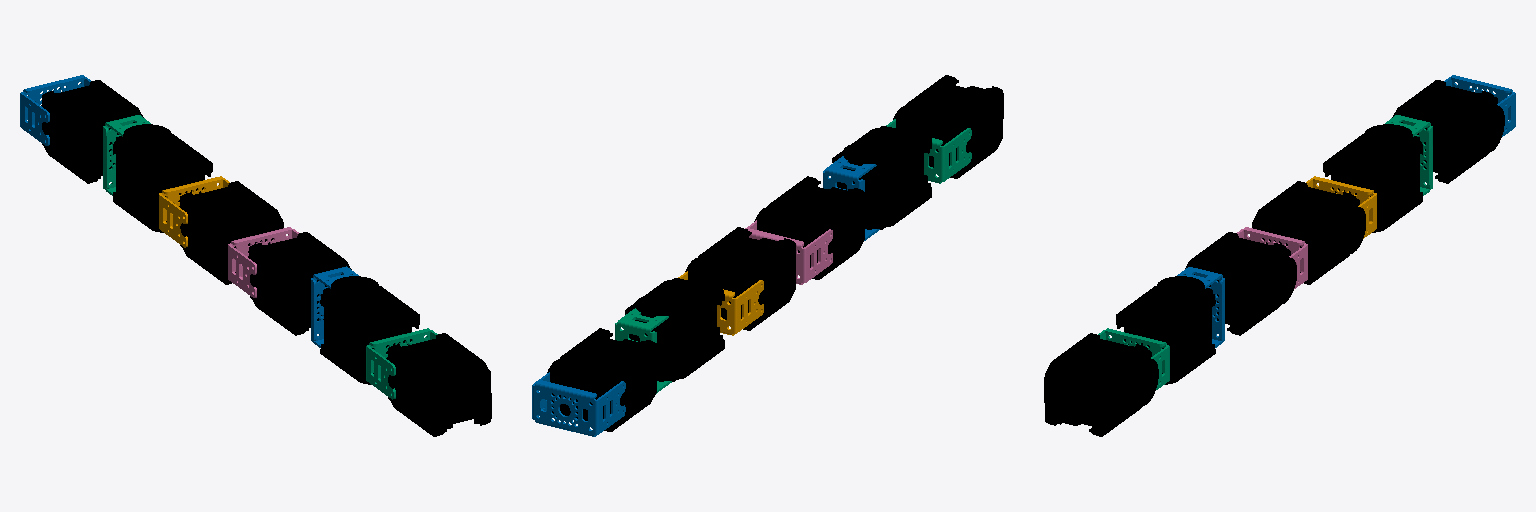
The robot description file, URDF, robot "my_snake_robot":
<?xml version="1.0"?>
<robot name = "my_snake_robot">

	<gazebo>
  		<plugin name="gazebo_ros_control" filename="libgazebo_ros_control.so">
    			<robotNamespace>/my_snake_robot</robotNamespace>
  		</plugin>
	</gazebo>

	<material name = "black">
		<color rgba = "0 0 0 1"/>
	</material>
	<material name = "grey">
		<color rgba = "0.75 0.75 0.75 1"/>
	</material>
  
  	<gazebo reference = "dummy_link">
  		<kp>1000</kp>
  		<kd>10</kd>
  		<mu1>10</mu1>
  		<mu2>10</mu2>
  	</gazebo>

    <link name = "dummy_link">
    </link>

    <joint name = "dummy" type="fixed">
      <parent link = "dummy_link"/>
      <child link = "act1"/>
      <origin xyz="0 0 0" rpy="0 0 0"/>
    </joint>

    <link name="act1">
		<inertial>
			<origin xyz = "0 0 0" rpy = "0 1.57 0"/>
			<mass value = "0.00546"/>
			<inertia ixx ="4.6587e-5" ixy="0" ixz= "0"
			 iyy= "1.6976e-5" iyz="0" izz="4.1637e-5"/>
		</inertial>
        <collision>
            <origin xyz="0 0 0" rpy="0 1.57 0"/>
            <geometry>
        		<mesh filename="package://quadnake_description/meshes/MX-64T.stl" scale="0.01 0.01 0.01"/>
			</geometry>
        </collision>		
		<visual>
			<origin  xyz="0 0 0" rpy="0 1.57 0"/>
			<geometry>
        		<mesh filename="package://quadnake_description/meshes/MX-64T.stl" scale="0.01 0.01 0.01"/>
			</geometry>
			<material name="black"/>
		</visual>
    </link>
  
  	<gazebo reference = "act1">
  		<kp>1000</kp>
  		<kd>10</kd>
  		<mu1>10</mu1>
  		<mu2>10</mu2>
  	</gazebo>

    <link name="link1">
    	<inertial>
			<origin xyz = "0 0 0" rpy = "0 0 0"/>
			<mass value = "0.00546"/>
			<inertia ixx ="2.042e-06" ixy="0" ixz= "0"
			 iyy= "1.206e-06" iyz="0" izz="2.817e-06"/>
		</inertial>
        <collision>
            <origin xyz="0 0 0" rpy="0 0 0"/>
            <geometry>
                <mesh filename="package://quadnake_description/meshes/FR07-H101.stl" scale="0.01 0.01 0.01"/>
			</geometry>
        </collision>		
        <visual>
            <origin rpy="0 0 0" xyz="0 0 0"/>
            <geometry>
                <mesh filename="package://quadnake_description/meshes/FR07-H101.stl" scale="0.01 0.01 0.01"/>
            </geometry>
        </visual>
    </link>

  	<gazebo reference = "link1">
  		<kp>1000</kp>
  		<kd>10</kd>
  		<mu1>10</mu1>
  		<mu2>10</mu2>
  	</gazebo>

  	<joint name="joint1" type="revolute">
    	<axis xyz="1 0 0"/>
    	<limit effort="1000.0" velocity="1000" lower="-1.57" upper="1.57"/>
    	<origin rpy="0 0 0" xyz="0 0 0"/>
    	<parent link="act1"/>
    	<child link="link1"/>
  	</joint>

  <transmission name="tran1">
    <type>transmission_interface/SimpleTransmission</type>
    <joint name="joint1">
      <hardwareInterface>EffortJointInterface</hardwareInterface>
    </joint>
    <actuator name="motor1">
      <hardwareInterface>EffortJointInterface</hardwareInterface>
      <mechanicalReduction>1</mechanicalReduction>
    </actuator>
  </transmission>

    <link name="act2">
		<inertial>
			<origin xyz = "0 0 0" rpy = "0 0 0"/>
			<mass value = "0.00546"/>
			<inertia ixx ="4.6587e-5" ixy="0" ixz= "0"
			 iyy= "1.6976e-5" iyz="0" izz="4.1637e-5"/>
		</inertial>
        <collision>
            <origin xyz="0 0 0" rpy="0 0 0"/>
            <geometry>
        		<mesh filename="package://quadnake_description/meshes/MX-64T.stl" scale="0.01 0.01 0.01"/>
			</geometry>
        </collision>		
		<visual>
			<origin xyz="0 0 0" rpy="0 0 0" />
			<geometry>
        		<mesh filename="package://quadnake_description/meshes/MX-64T.stl" scale="0.01 0.01 0.01"/>
			</geometry>
			<material name="black"/>
		</visual>
    </link>
  
  	<gazebo reference = "act2">
  		<kp>1000</kp>
  		<kd>10</kd>
  		<mu1>10</mu1>
  		<mu2>10</mu2>
  	</gazebo>

    <joint name = "fixed1" type="fixed">
      <parent link = "link1"/>
      <child link = "act2"/>
      <origin xyz="0 0.08 0" rpy="0 0 0"/>
    </joint>

    <link name="link2">
    	<inertial>
			<origin xyz = "0 0 0" rpy = "0 1.57 0"/>
			<mass value = "0.00546"/>
			<inertia ixx ="2.042e-06" ixy="0" ixz= "0"
			 iyy= "1.206e-06" iyz="0" izz="2.817e-06"/>
		</inertial>
        <collision>
            <origin xyz="0 0 0" rpy="0 1.57 0"/>
            <geometry>
                <mesh filename="package://quadnake_description/meshes/FR07-H101.stl" scale="0.01 0.01 0.01"/>
			</geometry>
        </collision>		
        <visual>
            <origin xyz="0 0 0" rpy="0 1.57 0" />
            <geometry>
                <mesh filename="package://quadnake_description/meshes/FR07-H101.stl" scale="0.01 0.01 0.01"/>
            </geometry>
        </visual>
    </link>

  	<gazebo reference = "link2">
  		<kp>1000</kp>
  		<kd>10</kd>
  		<mu1>10</mu1>
  		<mu2>10</mu2>
  	</gazebo>

  	<joint name="joint2" type="revolute">
    	<axis xyz="0 0 1"/>
    	<limit effort="1000.0" velocity="1000" lower="-1.57" upper="1.57"/>
    	<origin rpy="0 0 0" xyz="0 0 0"/>
    	<parent link="act2"/>
    	<child link="link2"/>

  	</joint>

  <transmission name="tran2">
    <type>transmission_interface/SimpleTransmission</type>
    <joint name="joint2">
      <hardwareInterface>EffortJointInterface</hardwareInterface>
    </joint>
    <actuator name="motor2">
      <hardwareInterface>EffortJointInterface</hardwareInterface>
      <mechanicalReduction>1</mechanicalReduction>
    </actuator>
  </transmission>

    <link name="act3">
		<inertial>
			<origin xyz = "0 0 0" rpy = "0 1.57 0"/>
			<mass value = "0.00546"/>
			<inertia ixx ="4.6587e-5" ixy="0" ixz= "0"
			 iyy= "1.6976e-5" iyz="0" izz="4.1637e-5"/>
		</inertial>
        <collision>
            <origin xyz="0 0 0" rpy="0 1.57 0"/>
            <geometry>
        		<mesh filename="package://quadnake_description/meshes/MX-64T.stl" scale="0.01 0.01 0.01"/>
			</geometry>
        </collision>		
		<visual>
			<origin  xyz="0 0 0" rpy="0 1.57 0"/>
			<geometry>
        		<mesh filename="package://quadnake_description/meshes/MX-64T.stl" scale="0.01 0.01 0.01"/>
			</geometry>
			<material name="black"/>
		</visual>
    </link>
  
  	<gazebo reference = "act3">
  		<kp>1000</kp>
  		<kd>10</kd>
  		<mu1>10</mu1>
  		<mu2>10</mu2>
  	</gazebo>

    <link name="link3">
    	<inertial>
			<origin xyz = "0 0 0" rpy = "0 0 0"/>
			<mass value = "0.00546"/>
			<inertia ixx ="2.042e-06" ixy="0" ixz= "0"
			 iyy= "1.206e-06" iyz="0" izz="2.817e-06"/>
		</inertial>
        <collision>
            <origin xyz="0 0 0" rpy="0 0 0"/>
            <geometry>
                <mesh filename="package://quadnake_description/meshes/FR07-H101.stl" scale="0.01 0.01 0.01"/>
			</geometry>
        </collision>		
        <visual>
            <origin xyz="0 0 0" rpy="0 0 0"/>
            <geometry>
                <mesh filename="package://quadnake_description/meshes/FR07-H101.stl" scale="0.01 0.01 0.01"/>
            </geometry>
        </visual>
    </link>

  	<gazebo reference = "link3">
  		<kp>1000</kp>
  		<kd>10</kd>
  		<mu1>10</mu1>
  		<mu2>10</mu2>
  	</gazebo>

  	<joint name="joint3" type="revolute">
    	<axis xyz="1 0 0"/>
    	<limit effort="1000.0" velocity="1000" lower="-1.57" upper="1.57"/>
    	<origin rpy="0 0 0" xyz="0 0 0"/>
    	<parent link="act3"/>
    	<child link="link3"/>

  	</joint>

  <transmission name="tran3">
    <type>transmission_interface/SimpleTransmission</type>
    <joint name="joint3">
      <hardwareInterface>EffortJointInterface</hardwareInterface>
    </joint>
    <actuator name="motor3">
      <hardwareInterface>EffortJointInterface</hardwareInterface>
      <mechanicalReduction>1</mechanicalReduction>
    </actuator>
  </transmission>

    <joint name = "fixed2" type="fixed">
      <parent link = "link2"/>
      <child link = "act3"/>
      <origin xyz="0 0.08 0" rpy="0 0 0"/>
    </joint>

    <link name="act4">
		<inertial>
			<origin xyz = "0 0 0" rpy = "0 1.57 0"/>
			<mass value = "0.00546"/>
			<inertia ixx ="4.6587e-5" ixy="0" ixz= "0"
			 iyy= "1.6976e-5" iyz="0" izz="4.1637e-5"/>
		</inertial>
        <collision>
            <origin xyz="0 0 0" rpy="0 1.57 0"/>
            <geometry>
        		<mesh filename="package://quadnake_description/meshes/MX-64T.stl" scale="0.01 0.01 0.01"/>
			</geometry>
        </collision>		
		<visual>
			<origin  xyz="0 0 0" rpy="0 1.57 0"/>
			<geometry>
        		<mesh filename="package://quadnake_description/meshes/MX-64T.stl" scale="0.01 0.01 0.01"/>
			</geometry>
			<material name="black"/>
		</visual>
    </link>
  
  	<gazebo reference = "act4">
  		<kp>1000</kp>
  		<kd>10</kd>
  		<mu1>10</mu1>
  		<mu2>10</mu2>
  	</gazebo>

    <link name="link4">
    	<inertial>
			<origin xyz = "0 0 0" rpy = "0 0 0"/>
			<mass value = "0.00546"/>
			<inertia ixx ="2.042e-06" ixy="0" ixz= "0"
			 iyy= "1.206e-06" iyz="0" izz="2.817e-06"/>
		</inertial>
        <collision>
            <origin xyz="0 0 0" rpy="0 0 0"/>
            <geometry>
                <mesh filename="package://quadnake_description/meshes/FR07-H101.stl" scale="0.01 0.01 0.01"/>
			</geometry>
        </collision>		
        <visual>
            <origin rpy="0 0 0" xyz="0 0 0"/>
            <geometry>
                <mesh filename="package://quadnake_description/meshes/FR07-H101.stl" scale="0.01 0.01 0.01"/>
            </geometry>
        </visual>
    </link>

  	<gazebo reference = "link4">
  		<kp>1000</kp>
  		<kd>10</kd>
  		<mu1>10</mu1>
  		<mu2>10</mu2>
  	</gazebo>   

  	<joint name="joint4" type="revolute">
    	<axis xyz="1 0 0"/>
    	<limit effort="1000.0" velocity="1000" lower="-1.57" upper="1.57"/>
    	<origin rpy="0 0 0" xyz="0 0 0"/>
    	<parent link="act4"/>
    	<child link="link4"/>

  	</joint>

  <transmission name="tran4">
    <type>transmission_interface/SimpleTransmission</type>
    <joint name="joint4">
      <hardwareInterface>EffortJointInterface</hardwareInterface>
    </joint>
    <actuator name="motor4">
      <hardwareInterface>EffortJointInterface</hardwareInterface>
      <mechanicalReduction>1</mechanicalReduction>
    </actuator>
  </transmission>

    <joint name = "fixed3" type="fixed">
      <parent link = "link3"/>
      <child link = "act4"/>
      <origin xyz="0 0.08 0" rpy="0 0 0"/>
    </joint>

    <link name="act5">
		<inertial>
			<origin xyz = "0 0 0" rpy = "0 0 0"/>
			<mass value = "0.00546"/>
			<inertia ixx ="4.6587e-5" ixy="0" ixz= "0"
			 iyy= "1.6976e-5" iyz="0" izz="4.1637e-5"/>
		</inertial>
        <collision>
            <origin xyz="0 0 0" rpy="0 0 0"/>
            <geometry>
        		<mesh filename="package://quadnake_description/meshes/MX-64T.stl" scale="0.01 0.01 0.01"/>
			</geometry>
        </collision>		
		<visual>
			<origin xyz="0 0 0" rpy="0 0 0" />
			<geometry>
        		<mesh filename="package://quadnake_description/meshes/MX-64T.stl" scale="0.01 0.01 0.01"/>
			</geometry>
			<material name="black"/>
		</visual>
    </link>
  
  	<gazebo reference = "act5">
  		<kp>1000</kp>
  		<kd>10</kd>
  		<mu1>10</mu1>
  		<mu2>10</mu2>
  	</gazebo>

    <joint name = "fixed4" type="fixed">
      <parent link = "link4"/>
      <child link = "act5"/>
      <origin xyz="0 0.08 0" rpy="0 0 0"/>
    </joint>

    <link name="link5">
    	<inertial>
			<origin xyz = "0 0 0" rpy = "0 1.57 0"/>
			<mass value = "0.00546"/>
			<inertia ixx ="2.042e-06" ixy="0" ixz= "0"
			 iyy= "1.206e-06" iyz="0" izz="2.817e-06"/>
		</inertial>
        <collision>
            <origin xyz="0 0 0" rpy="0 1.57 0"/>
            <geometry>
                <mesh filename="package://quadnake_description/meshes/FR07-H101.stl" scale="0.01 0.01 0.01"/>
			</geometry>
        </collision>		
        <visual>
            <origin xyz="0 0 0" rpy="0 1.57 0" />
            <geometry>
                <mesh filename="package://quadnake_description/meshes/FR07-H101.stl" scale="0.01 0.01 0.01"/>
            </geometry>
        </visual>
    </link>

  	<gazebo reference = "act5">
  		<kp>1000</kp>
  		<kd>10</kd>
  		<mu1>10</mu1>
  		<mu2>10</mu2>
  	</gazebo>

  	<joint name="joint5" type="revolute">
    	<axis xyz="0 0 1"/>
    	<limit effort="1000.0" velocity="1000" lower="-1.57" upper="1.57"/>
    	<origin rpy="0 0 0" xyz="0 0 0"/>
    	<parent link="act5"/>
    	<child link="link5"/>
  	</joint>

  	<gazebo reference = "joint5">
  		<kp>1000</kp>
  		<kd>10</kd>
  		<mu1>10</mu1>
  		<mu2>10</mu2>
  	</gazebo>

  <transmission name="tran5">
    <type>transmission_interface/SimpleTransmission</type>
    <joint name="joint5">
      <hardwareInterface>EffortJointInterface</hardwareInterface>
    </joint>
    <actuator name="motor5">
      <hardwareInterface>EffortJointInterface</hardwareInterface>
      <mechanicalReduction>1</mechanicalReduction>
    </actuator>
  </transmission>

    <link name="act6">
		<inertial>
			<origin xyz = "0 0 0" rpy = "0 1.57 0"/>
			<mass value = "0.00546"/>
			<inertia ixx ="4.6587e-5" ixy="0" ixz= "0"
			 iyy= "1.6976e-5" iyz="0" izz="4.1637e-5"/>
		</inertial>
        <collision>
            <origin xyz="0 0 0" rpy="0 1.57 0"/>
            <geometry>
        		<mesh filename="package://quadnake_description/meshes/MX-64T.stl" scale="0.01 0.01 0.01"/>
			</geometry>
        </collision>		
		<visual>
			<origin  xyz="0 0 0" rpy="0 1.57 0"/>
			<geometry>
        		<mesh filename="package://quadnake_description/meshes/MX-64T.stl" scale="0.01 0.01 0.01"/>
			</geometry>
			<material name="black"/>
		</visual>
    </link>
  
  	<gazebo reference = "act6">
  		<kp>1000</kp>
  		<kd>10</kd>
  		<mu1>10</mu1>
  		<mu2>10</mu2>
  	</gazebo>

    <link name="link6">
    	<inertial>
			<origin xyz = "0 0 0" rpy = "0 0 0"/>
			<mass value = "0.00546"/>
			<inertia ixx ="2.042e-06" ixy="0" ixz= "0"
			 iyy= "1.206e-06" iyz="0" izz="2.817e-06"/>
		</inertial>
        <collision>
            <origin xyz="0 0 0" rpy="0 0 0"/>
            <geometry>
                <mesh filename="package://quadnake_description/meshes/FR07-H101.stl" scale="0.01 0.01 0.01"/>
			</geometry>
        </collision>		
        <visual>
            <origin xyz="0 0 0" rpy="0 0 0"/>
            <geometry>
                <mesh filename="package://quadnake_description/meshes/FR07-H101.stl" scale="0.01 0.01 0.01"/>
            </geometry>
        </visual>
    </link>

  	<gazebo reference = "link6">
  		<kp>1000</kp>
  		<kd>10</kd>
  		<mu1>10</mu1>
  		<mu2>10</mu2>
  	</gazebo>

  	<joint name="joint6" type="revolute">
    	<axis xyz="1 0 0"/>
    	<limit effort="1000.0" velocity="1000" lower="-1.57" upper="1.57"/>
    	<origin rpy="0 0 0" xyz="0 0 0"/>
    	<parent link="act6"/>
    	<child link="link6"/>

  	</joint>

  <transmission name="tran6">
    <type>transmission_interface/SimpleTransmission</type>
    <joint name="joint6">
      <hardwareInterface>EffortJointInterface</hardwareInterface>
    </joint>
    <actuator name="motor6">
      <hardwareInterface>EffortJointInterface</hardwareInterface>
      <mechanicalReduction>1</mechanicalReduction>
    </actuator>
  </transmission>

    <joint name = "fixed5" type="fixed">
      <parent link = "link5"/>
      <child link = "act6"/>
      <origin xyz="0 0.08 0" rpy="0 0 0"/>
    </joint>
</robot>

--- What the picture shows (computed from the rendered views, not written in the file) ---
Views: 3 orthographic renders of the robot side by side, from view 1: azimuth 30°, elevation 25°; view 2: azimuth 150°, elevation 25°; view 3: azimuth 330°, elevation 25°.
Robot: my_snake_robot — 13 links, 12 joints (6 revolute, 6 fixed); root link dummy_link; default pose: every joint at zero.
Visible links, largest first — view 1: act1, act5, act2, act4, act3, act6, link6, link1, link4, link3, link5, link2; view 2: act5, act2, act6, act4, act1, act3, link6, link1, link3, link4, link2, link5; view 3: act1, act4, act3, act6, act5, act2, link5, link2, link6, link1, link4, link3.
Link boxes in pixels (left/top/right/bottom): act1: left=387, top=333, right=491, bottom=436; act5: left=113, top=124, right=212, bottom=232; act2: left=320, top=276, right=419, bottom=384; act4: left=180, top=181, right=283, bottom=284; act3: left=249, top=232, right=351, bottom=335; act6: left=41, top=80, right=143, bottom=183; link6: left=20, top=75, right=90, bottom=145; link1: left=366, top=328, right=437, bottom=399; link4: left=159, top=176, right=229, bottom=247; link3: left=228, top=227, right=298, bottom=297; link5: left=103, top=115, right=150, bottom=195; link2: left=311, top=266, right=358, bottom=347; act5: left=625, top=278, right=724, bottom=381; act2: left=832, top=126, right=931, bottom=229; act6: left=547, top=328, right=657, bottom=431; act4: left=685, top=227, right=795, bottom=330; act1: left=893, top=75, right=1003, bottom=178; act3: left=754, top=176, right=864, bottom=279; link6: left=532, top=372, right=625, bottom=436; link1: left=886, top=119, right=971, bottom=183; link3: left=745, top=220, right=832, bottom=284; link4: left=678, top=271, right=763, bottom=335; link2: left=823, top=156, right=879, bottom=240; link5: left=615, top=308, right=671, bottom=393; act1: left=1044, top=333, right=1158, bottom=436; act4: left=1252, top=181, right=1365, bottom=284; act3: left=1185, top=232, right=1296, bottom=335; act6: left=1392, top=80, right=1504, bottom=183; act5: left=1323, top=124, right=1422, bottom=232; act2: left=1116, top=276, right=1215, bottom=384; link5: left=1385, top=115, right=1432, bottom=195; link2: left=1177, top=267, right=1224, bottom=347; link6: left=1444, top=75, right=1515, bottom=136; link1: left=1098, top=328, right=1169, bottom=389; link4: left=1306, top=176, right=1376, bottom=238; link3: left=1237, top=227, right=1307, bottom=288.
Size in the robot's own frame: 0.05 by 0.4781 by 0.05 metres.
12 mesh visuals loaded from 2 distinct referenced files (2 binary STL).